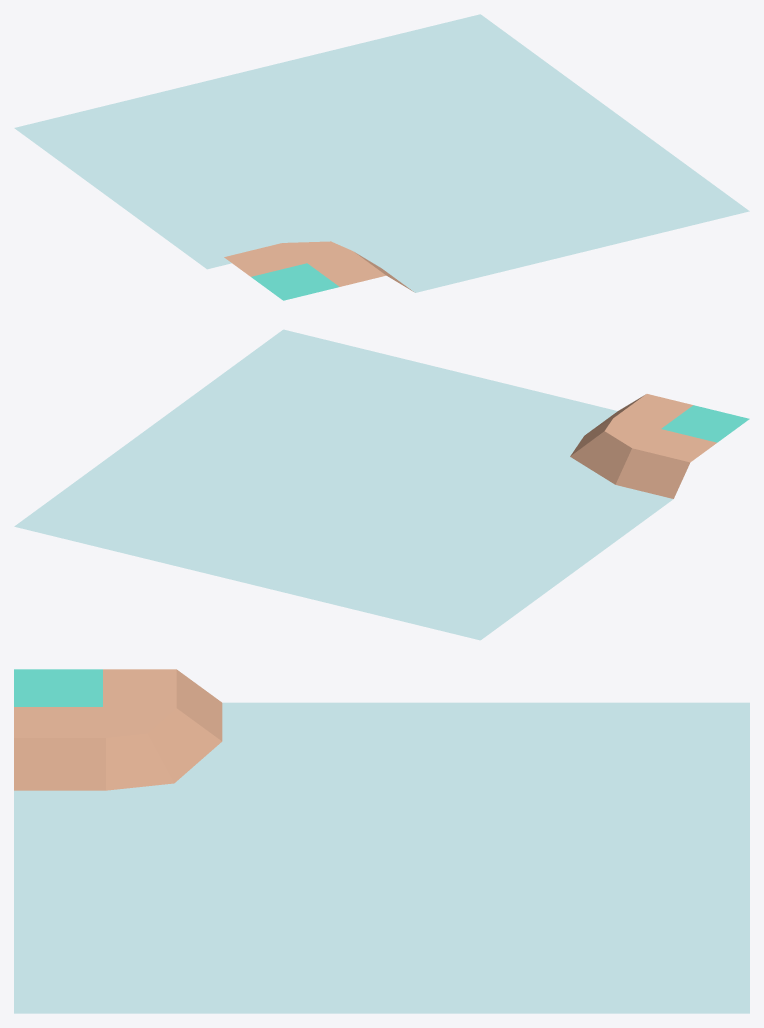
Rendered from ground_rivercornersmall.glb.
3 renders of one model, top to bottom at view 1: azimuth 30°, elevation 25°; view 2: azimuth 150°, elevation 25°; view 3: azimuth 270°, elevation 25°, orthographic. The views are drawn at different scales.
Parts seen in each view (by area): view 1: ground_riverCornerSmall; view 2: ground_riverCornerSmall; view 3: ground_riverCornerSmall.
Part boxes in pixels (x1,y1,x2,y2): ground_riverCornerSmall: (14, 14, 749, 300); ground_riverCornerSmall: (14, 329, 749, 640); ground_riverCornerSmall: (14, 669, 749, 1013).
Bounding box in the file's own units: 1 × 0.05 × 1.
